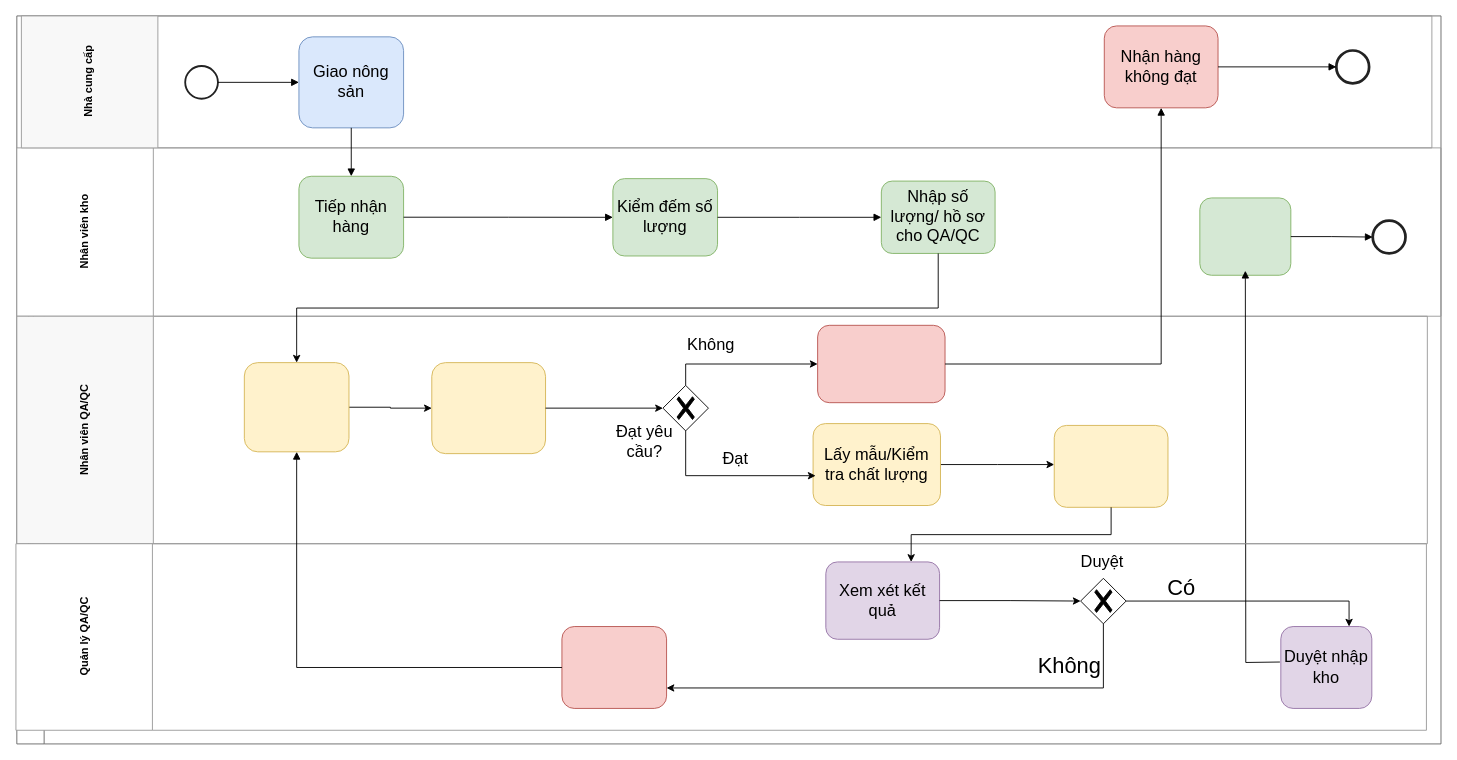
Some shapes in this 1457 by 760 pixel diagram are drawn without their labels. The shapes that lost their labels are listed below. From the top down, each one's centre as x and y in pixels, then its label:
the point at 1245,236: Nhập kho và bảo quản
the point at 881,363: Lập biên bản hàng không đạt
the point at 296,407: Kiểm tra hồ sơ / nguồn gốc
the point at 488,408: Kiểm tra cảm quan nông sản
the point at 1110,466: Lập biên bản hàng đạt
the point at 614,667: Yêu cầu kiểm tra lại
